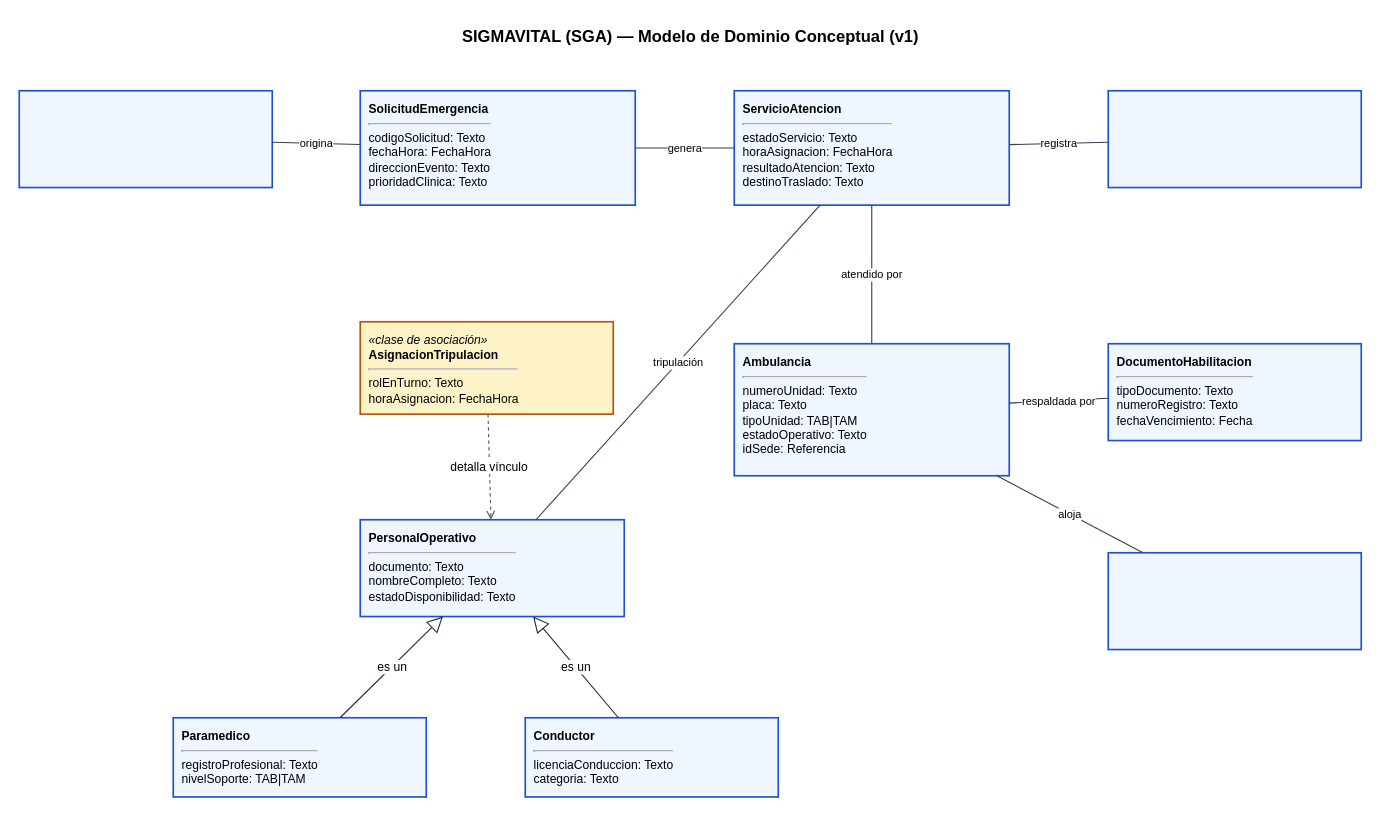
The diagram is 1382 pixels wide and 816 high, and some of its shapes have lost their labels. The shapes that lost their labels are listed below. From the top down, each one's box as (x1, y1, x2, y2) in pixels, then its label:
(18, 89, 273, 188): Paciente documento: Texto nombreCompleto: Texto antecedentesClinicos: Texto
(1107, 89, 1362, 188): NovedadOperativa tipoNovedad: Texto prioridad: Texto estadoSeguimiento: Texto
(1107, 551, 1362, 650): SedeOperativa nombreSede: Texto ciudad: Texto direccion: Texto
